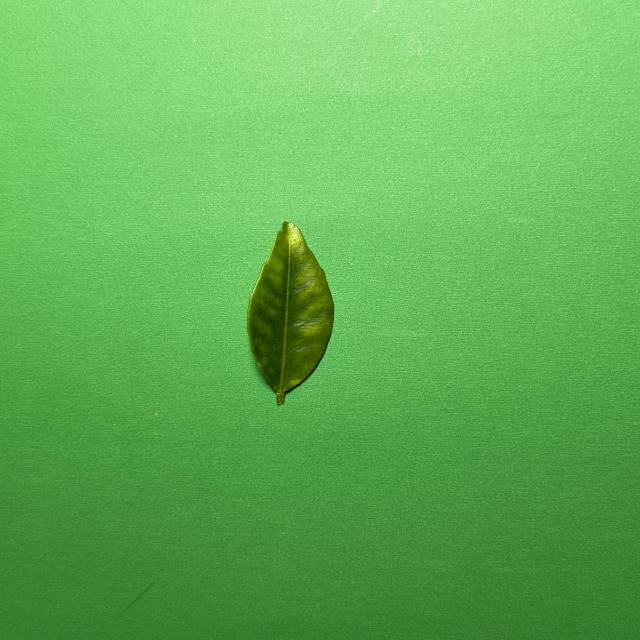greening: (247, 222, 334, 405)
